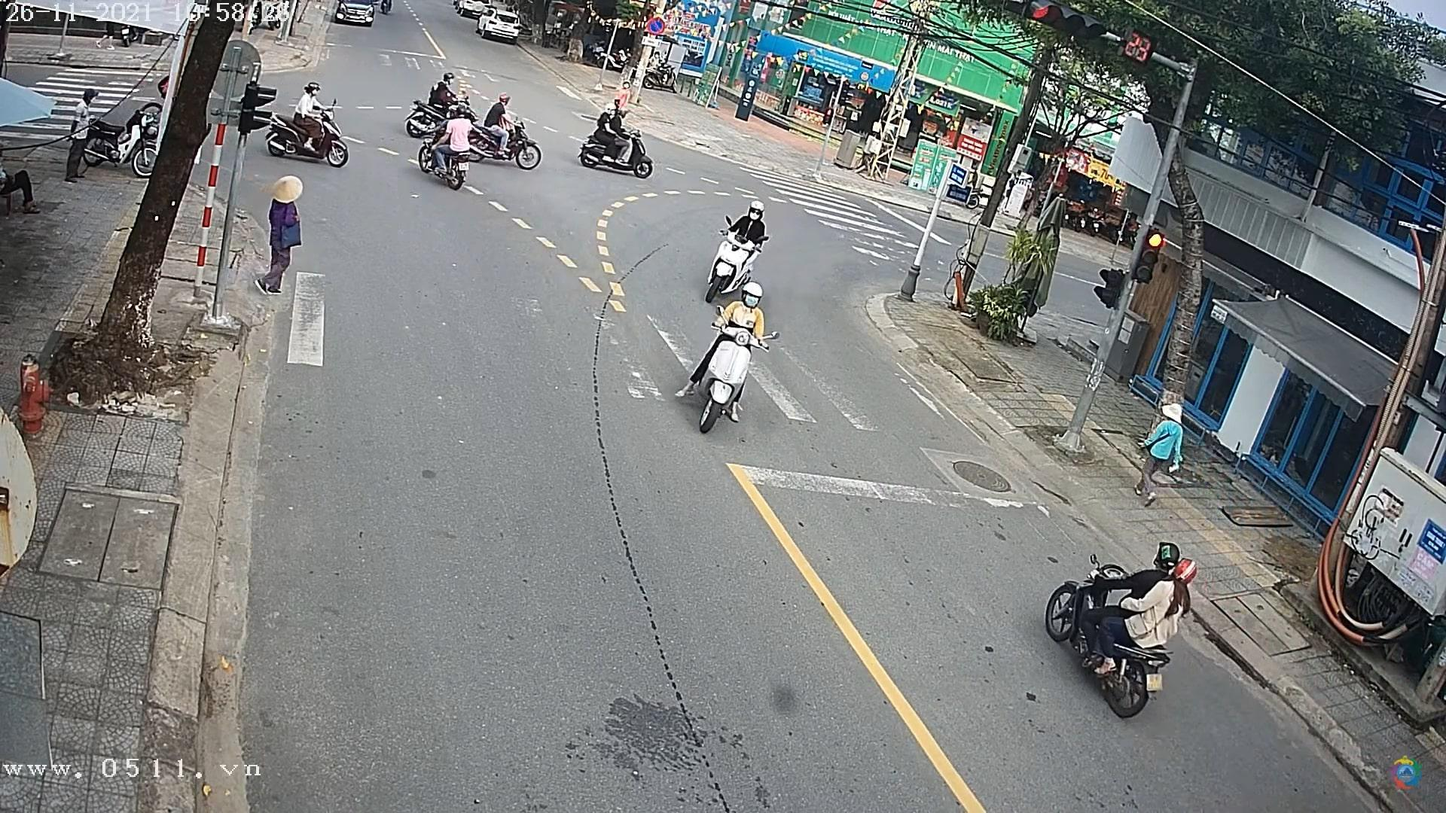car: (335, 2, 383, 26)
motorbike: (1048, 556, 1179, 720), (690, 318, 765, 440), (706, 217, 764, 310), (259, 108, 350, 165), (471, 114, 545, 172), (417, 123, 478, 192), (578, 127, 656, 179)
